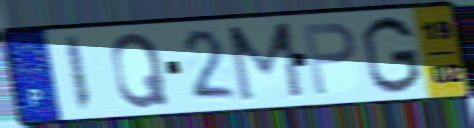2: (182, 26, 240, 106)
G: (359, 14, 424, 96)
I: (61, 33, 95, 114)
M: (224, 20, 310, 106)
P: (299, 20, 359, 98)
Q: (108, 30, 172, 111)
